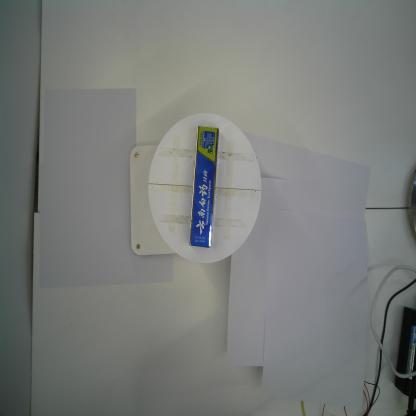Personal Hygiene: (188, 123, 221, 249)
